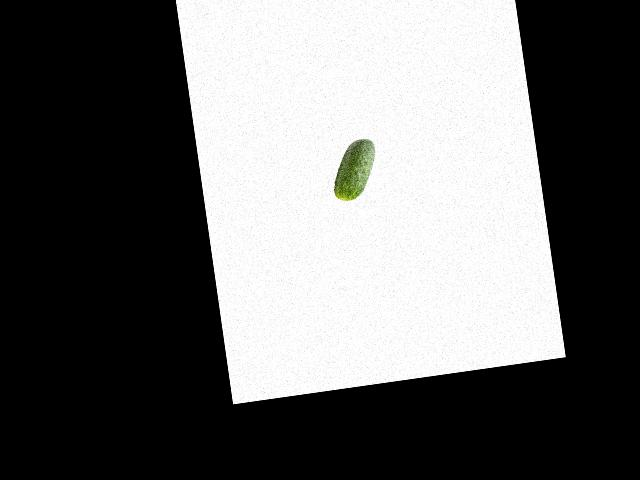cucumber: (327, 137, 381, 202)
